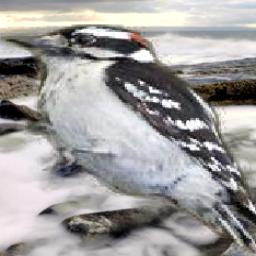Woodpecker: (2, 24, 256, 256)
